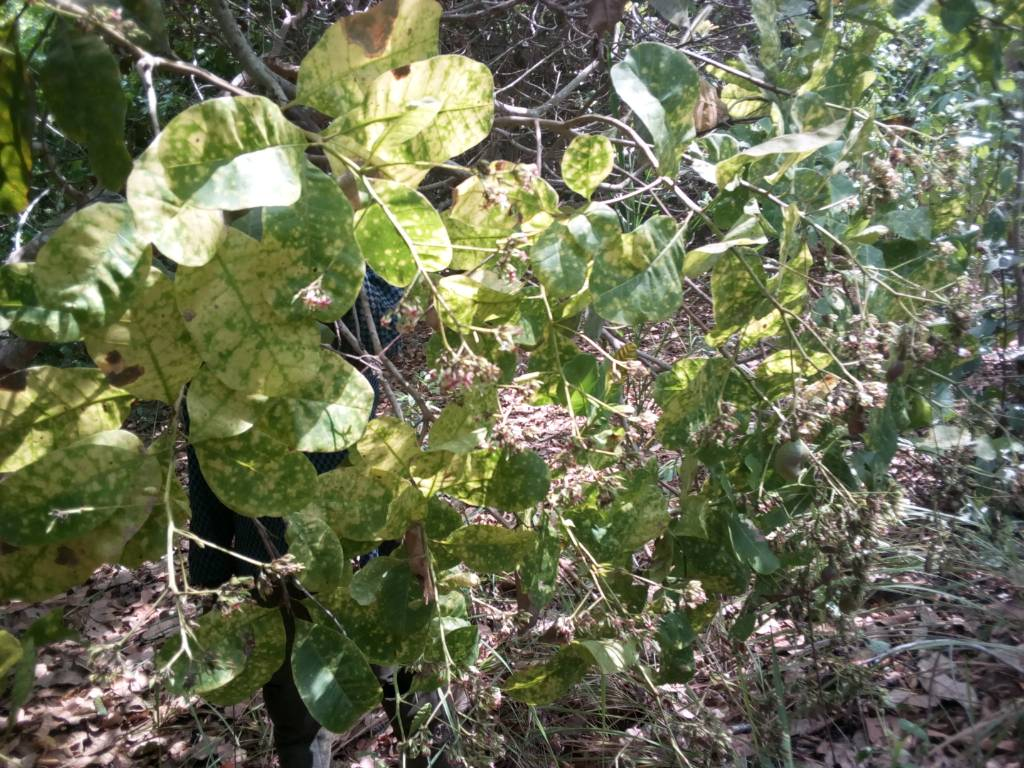Carence minérale: (121, 97, 314, 270), (1, 425, 180, 598), (172, 237, 332, 415), (17, 186, 147, 334), (2, 355, 137, 484)
